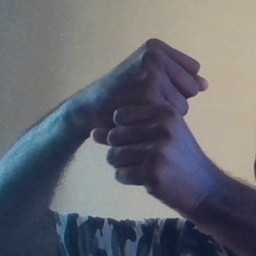G: (94, 35, 215, 191)
